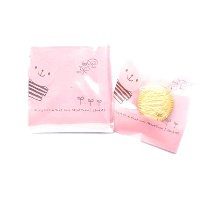snack: (99, 42, 210, 158), (20, 15, 119, 139)
